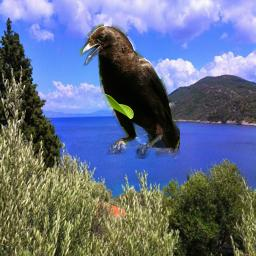Crow: (79, 23, 180, 159)
